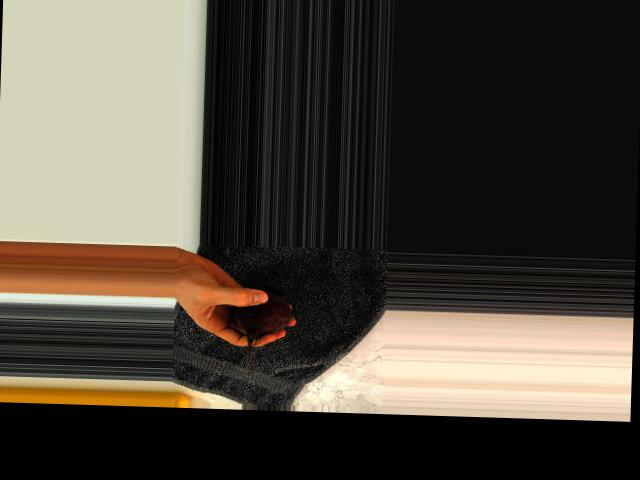beet: (232, 284, 293, 374)
